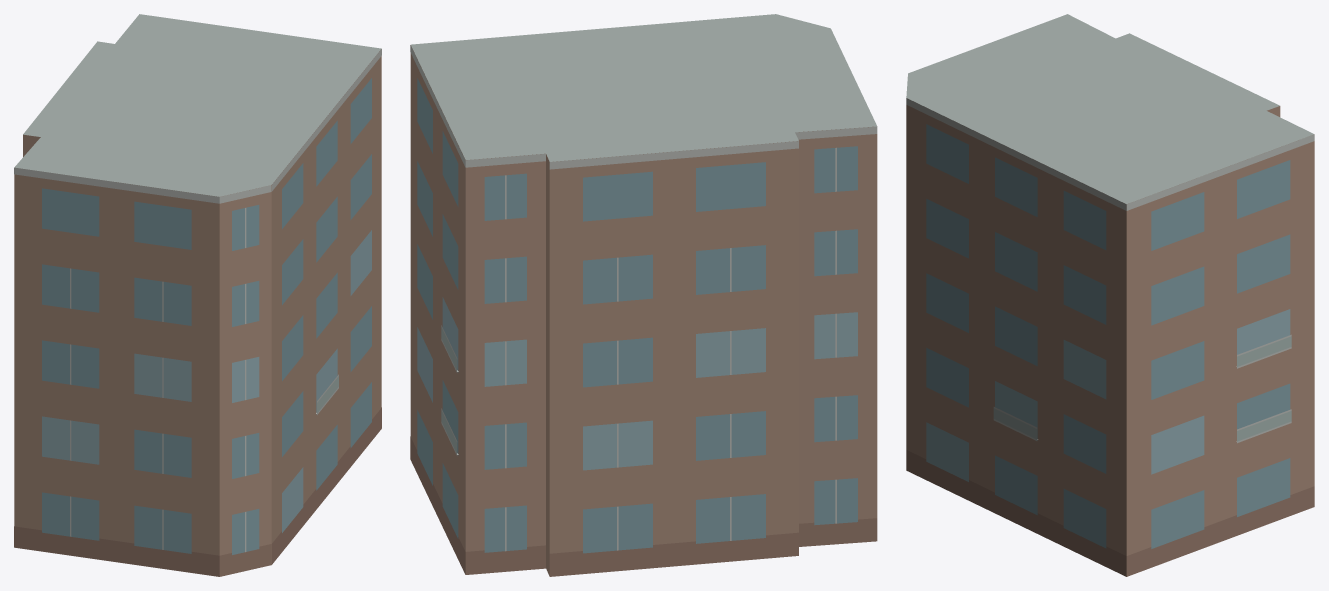
File: survey-upis-32928145.glb
The picture shows the model from 3 angles, left to right: view 1: azimuth 30°, elevation 25°; view 2: azimuth 150°, elevation 25°; view 3: azimuth 270°, elevation 25°; orthographic projection. The views are drawn at different scales.
Parts seen in each view (by area): view 1: survey-upis-32928145.tmp; view 2: survey-upis-32928145.tmp; view 3: survey-upis-32928145.tmp.
Part boxes in pixels (box(x1,y1,x2,y2)): survey-upis-32928145.tmp: box(14, 14, 381, 576); survey-upis-32928145.tmp: box(410, 14, 877, 576); survey-upis-32928145.tmp: box(906, 14, 1314, 576).
Bounding box in the file's own units: 14.68 × 13.4 × 13.32.
